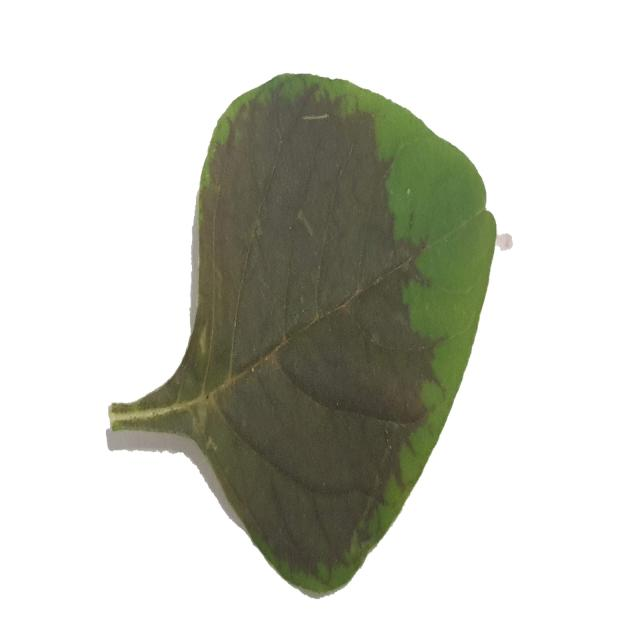Medicinal-Arive Dantu: (102, 68, 496, 592)
